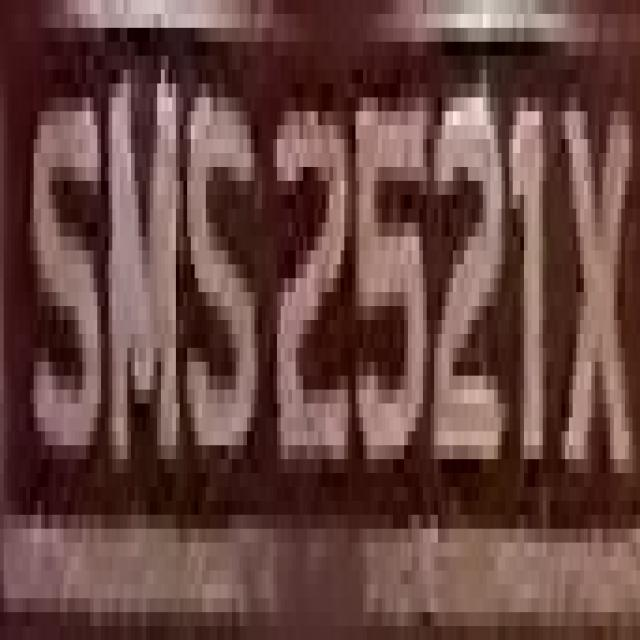1: (505, 56, 550, 514)
2: (412, 97, 505, 473), (273, 97, 352, 515)
5: (348, 70, 438, 487)
M: (97, 97, 180, 487)
S: (176, 56, 258, 514), (30, 28, 101, 487)
X: (562, 56, 632, 528)
